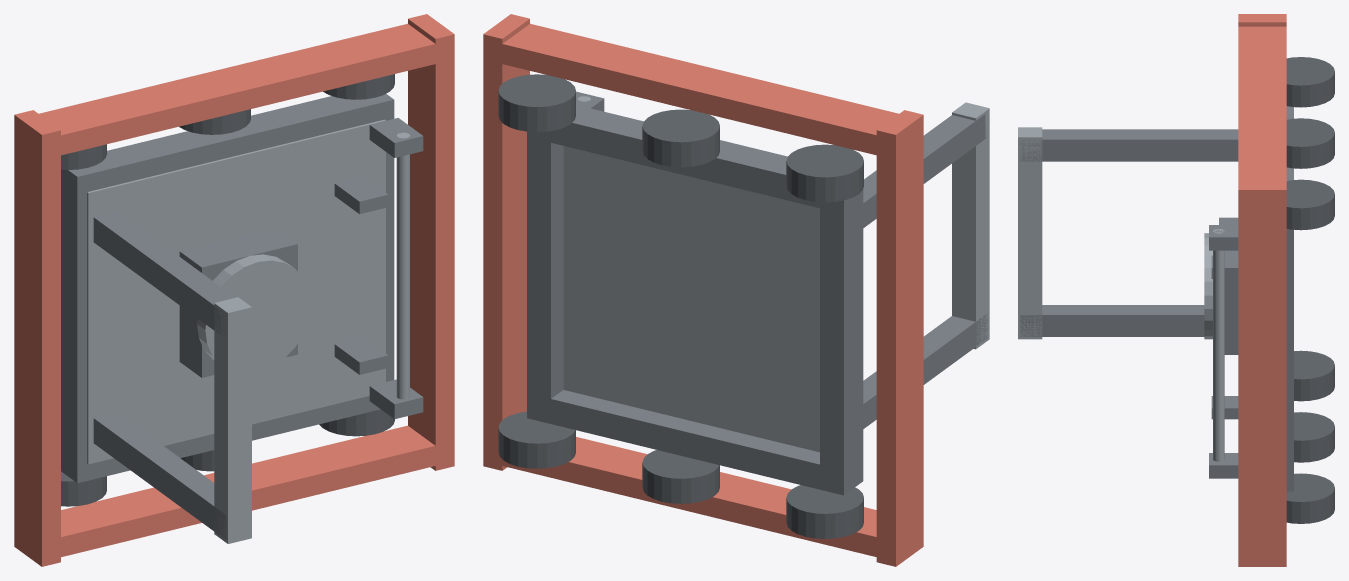
3 views of the same model, side by side, from view 1: azimuth 30°, elevation 25°; view 2: azimuth 150°, elevation 25°; view 3: azimuth 270°, elevation 25° (orthographic). The views are drawn at different scales.
Visible parts, largest first — view 1: model_NOSIMPLIFY; view 2: model_NOSIMPLIFY; view 3: model_NOSIMPLIFY.
Part boxes in pixels (<box>): model_NOSIMPLIFY: <box>14,14,454,566</box>; model_NOSIMPLIFY: <box>483,14,989,566</box>; model_NOSIMPLIFY: <box>1018,14,1334,566</box>.
Size of the model in its own units: 0.86 by 0.86 by 0.655.
